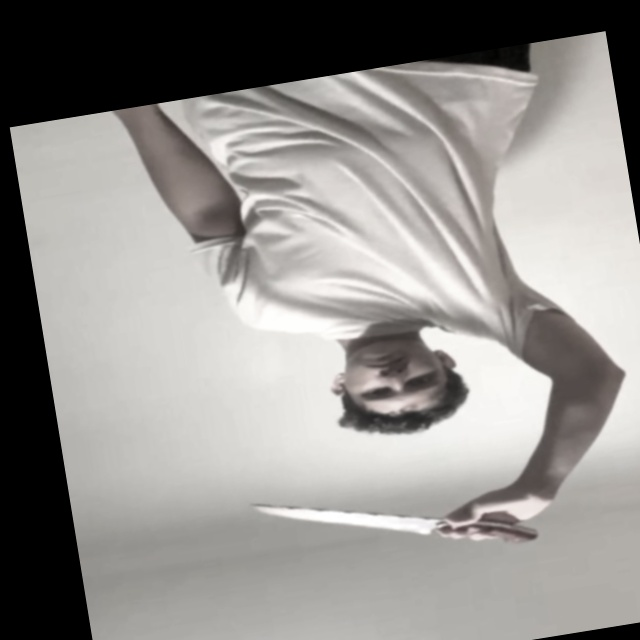Sharp-Object: (255, 478, 441, 564)
